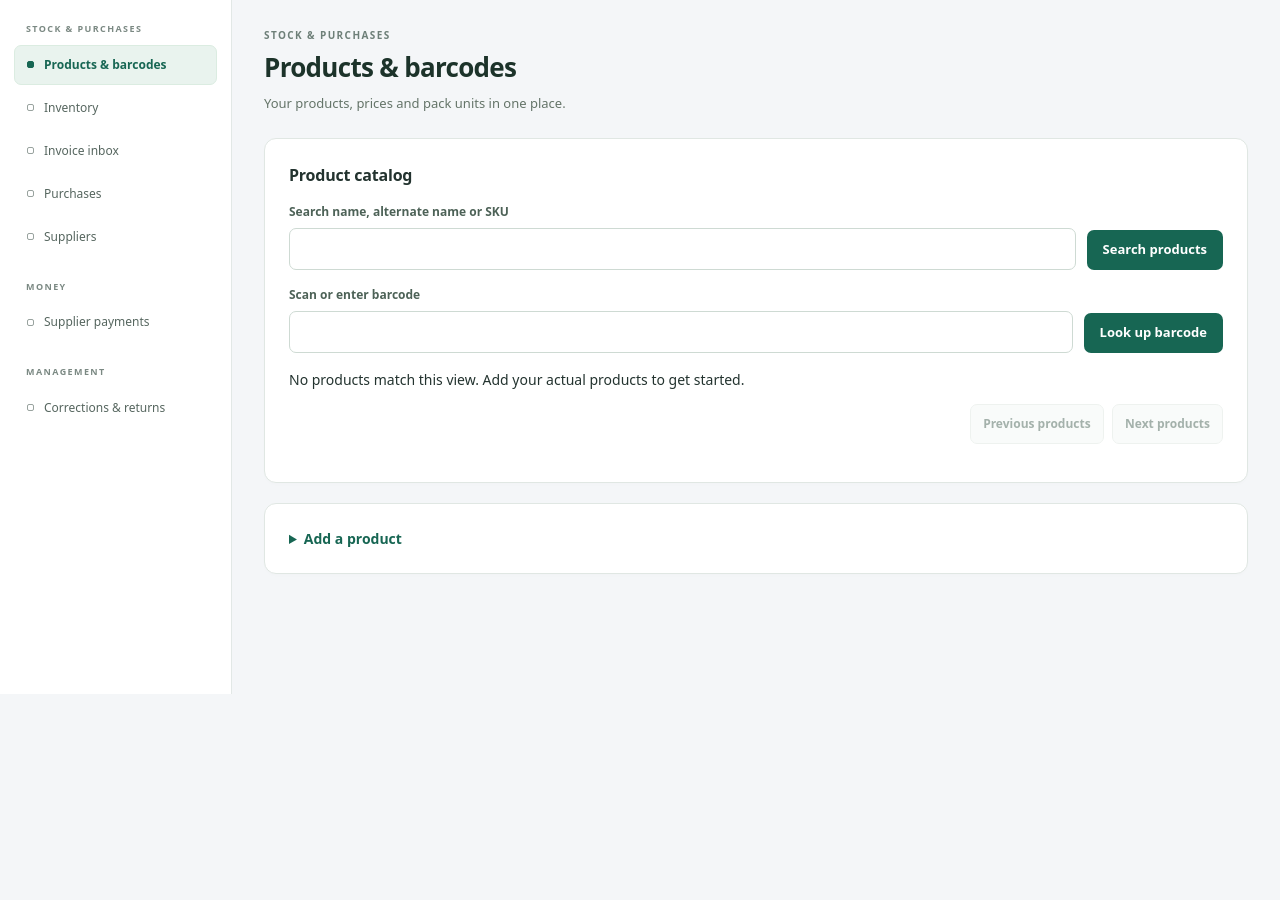
Scenario: real operations API flows › records a real supplier API response and preserves input on a genuine duplicate rejection
This screenshot has width=1280, height=900.
expect the text "No products match" is shown: met, box [289,370,744,389]
Step 1. Click the button "Suppliers" → (116, 236), box [14,216,217,256]
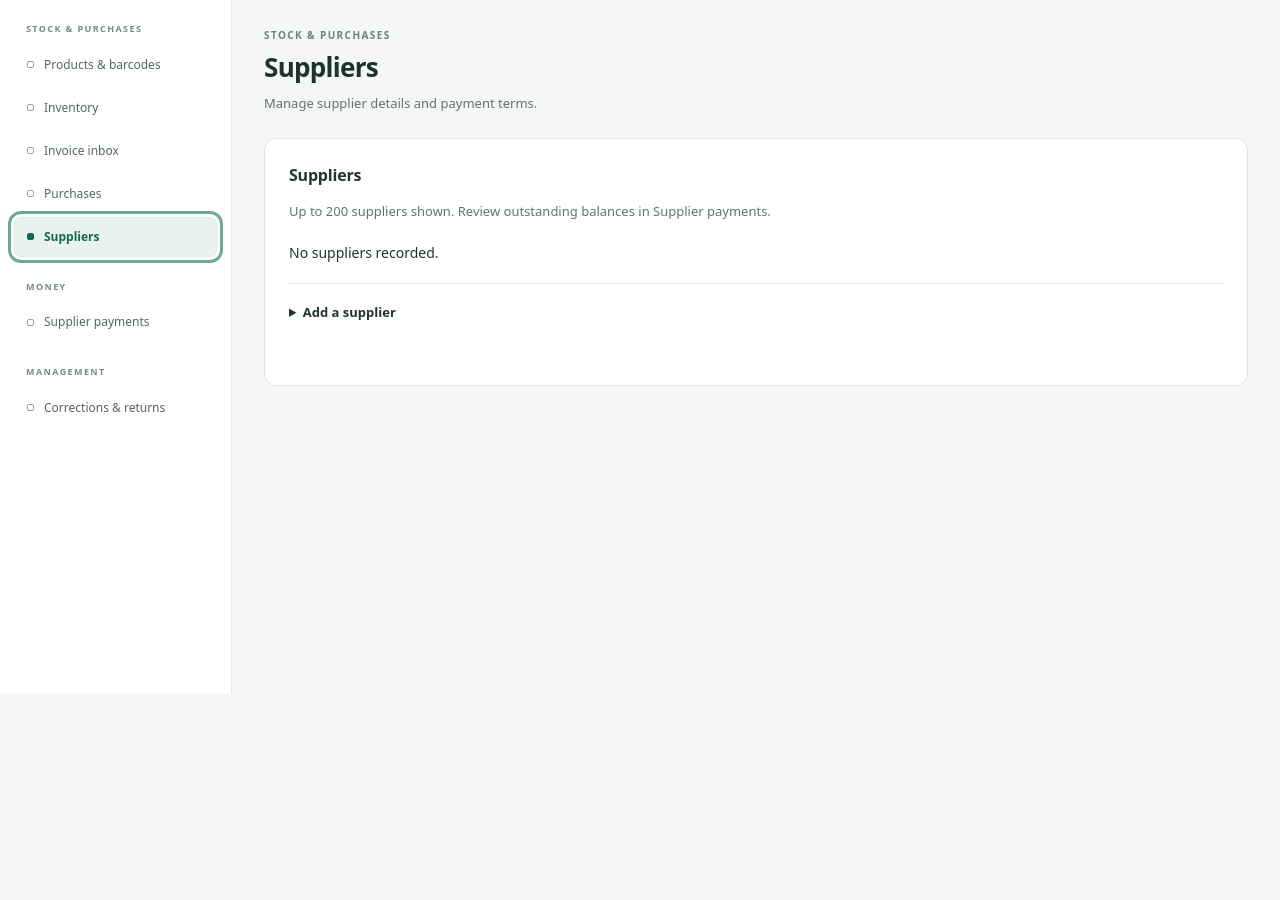
Step 2. Click the heading "Add a supplier" → (349, 312), box [303,303,396,321]
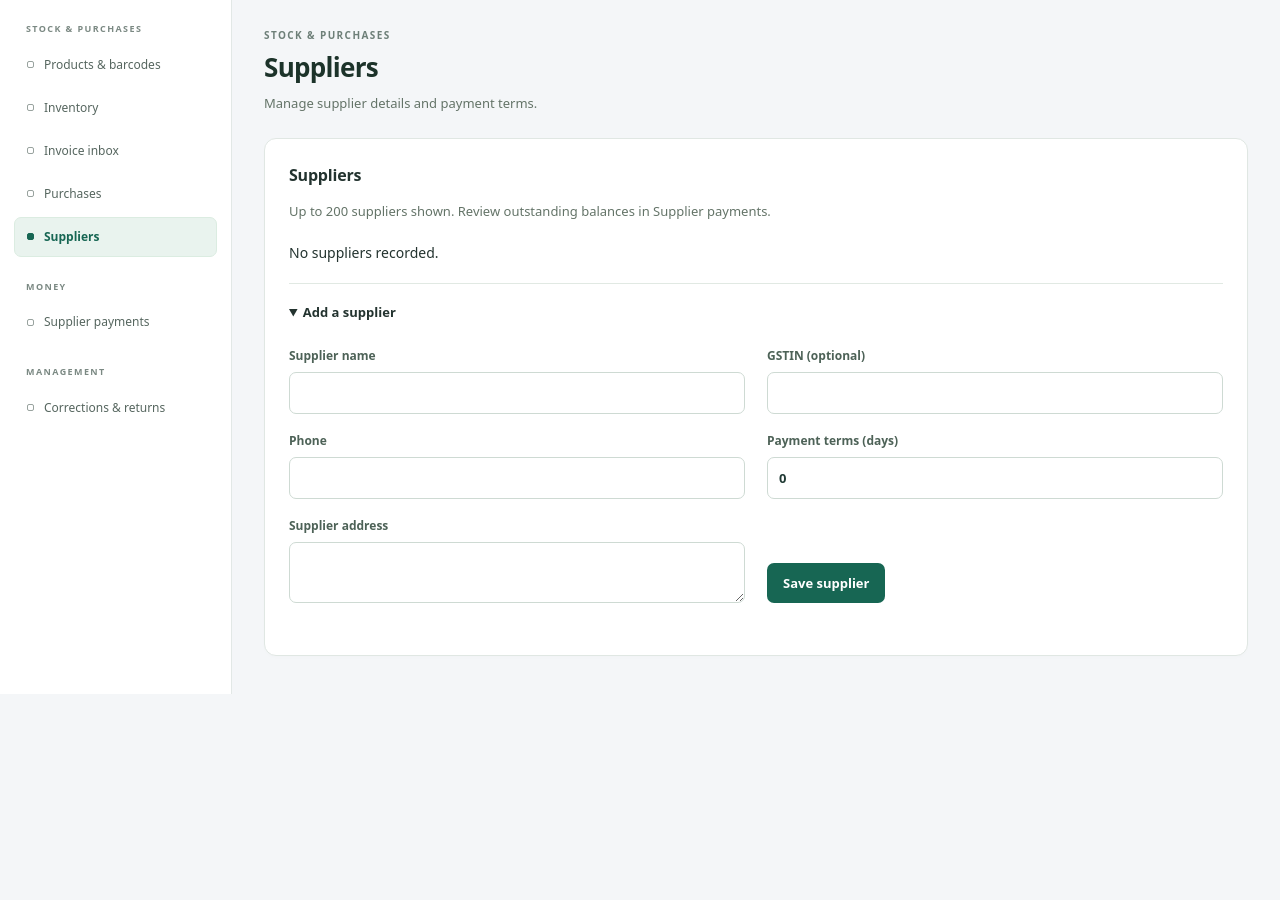
Step 3. Type "Registered supplier" into the field labelled "Supplier name" → (517, 394), box [289,372,745,414]
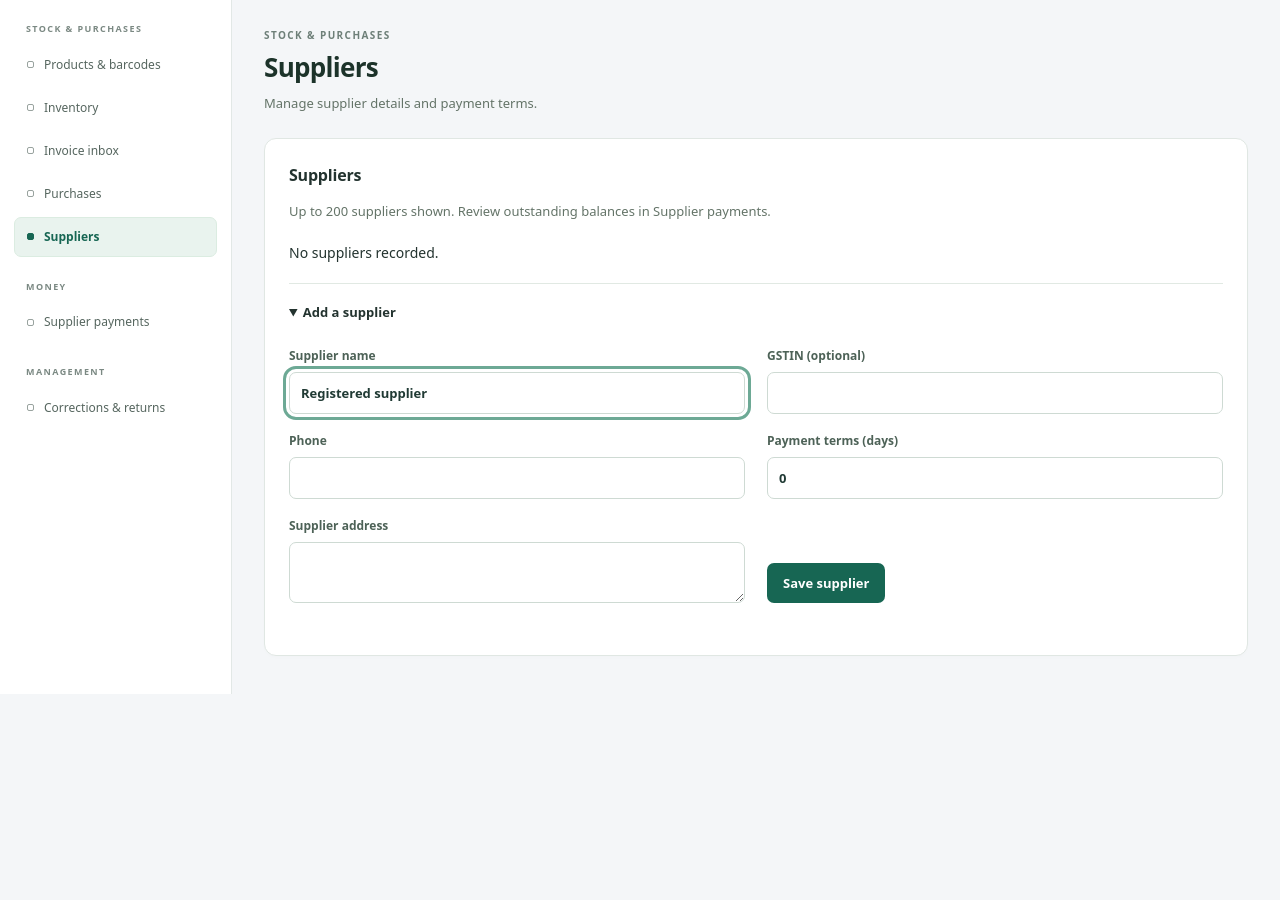
Step 4. Click the button "Save supplier" → (826, 584), box [767,564,886,604]
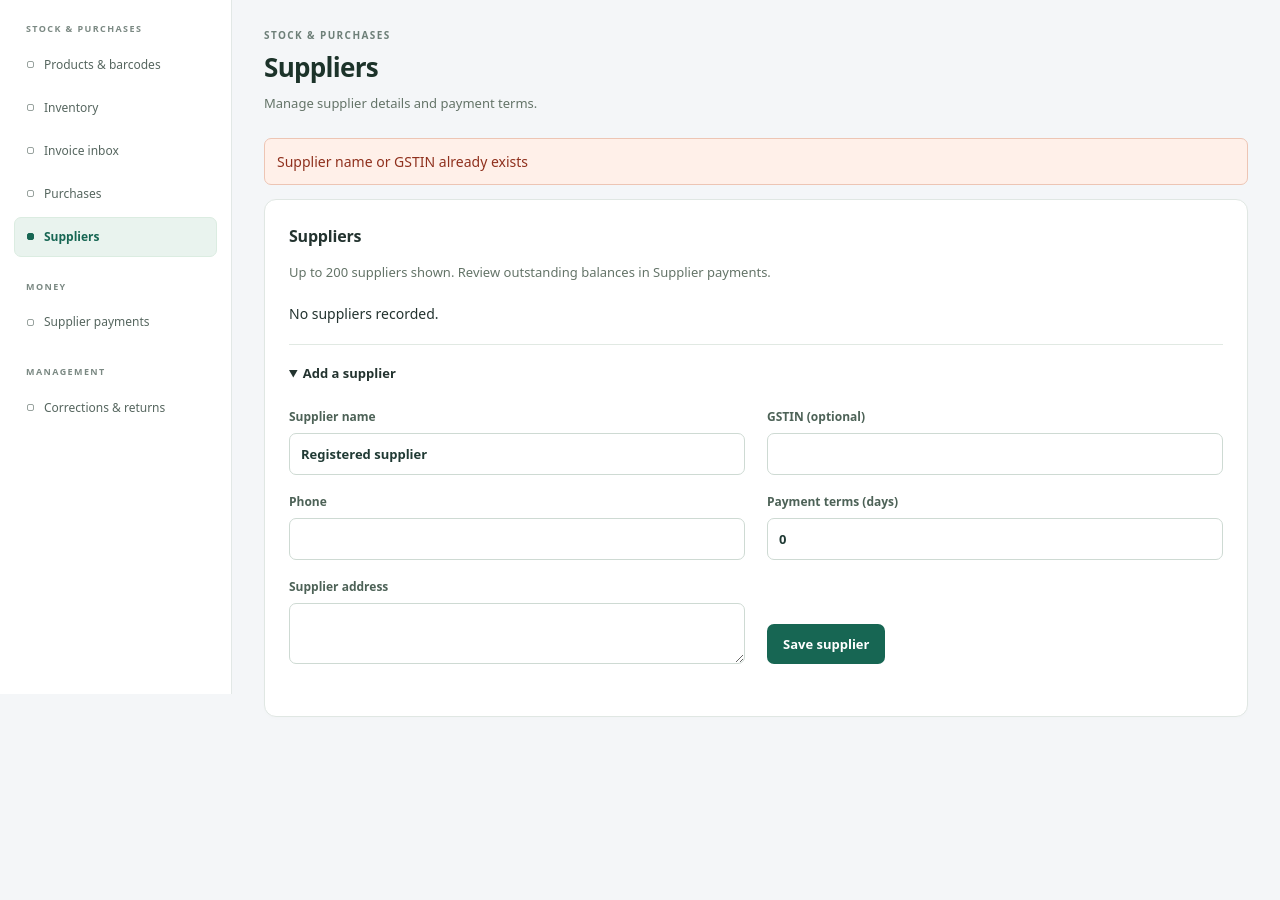
expect the message reads "Supplier name or GSTIN already exists": met, box [277,152,528,171]
